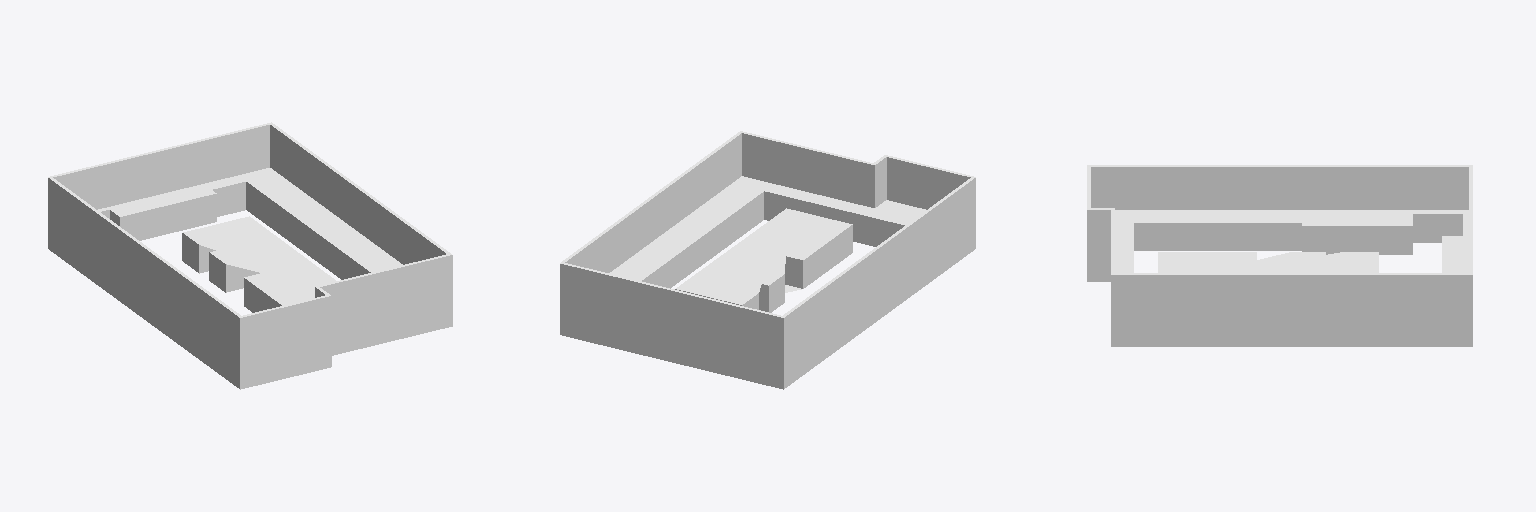
The model's file is walls.obj.
3 renders of one model, left to right at view 1: azimuth 30°, elevation 25°; view 2: azimuth 150°, elevation 25°; view 3: azimuth 270°, elevation 25°, orthographic.
Parts seen in each view (by area): view 1: Mesh1 Model, Mesh2 Model; view 2: Mesh1 Model, Mesh2 Model; view 3: Mesh1 Model, Mesh2 Model.
Part boxes in pixels (x1,y1,x2,y2): Mesh1 Model: (48,122,452,389); Mesh2 Model: (182,216,335,312); Mesh1 Model: (560,131,975,389); Mesh2 Model: (675,208,852,312); Mesh1 Model: (1087,165,1472,346); Mesh2 Model: (1158,252,1378,272).
Bounding box in the file's own units: 6.55 × 2 × 9.75.